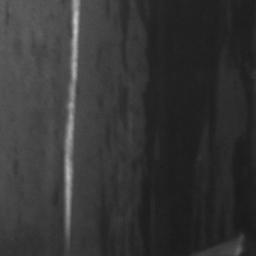Bright scratch: (63, 0, 79, 250)
